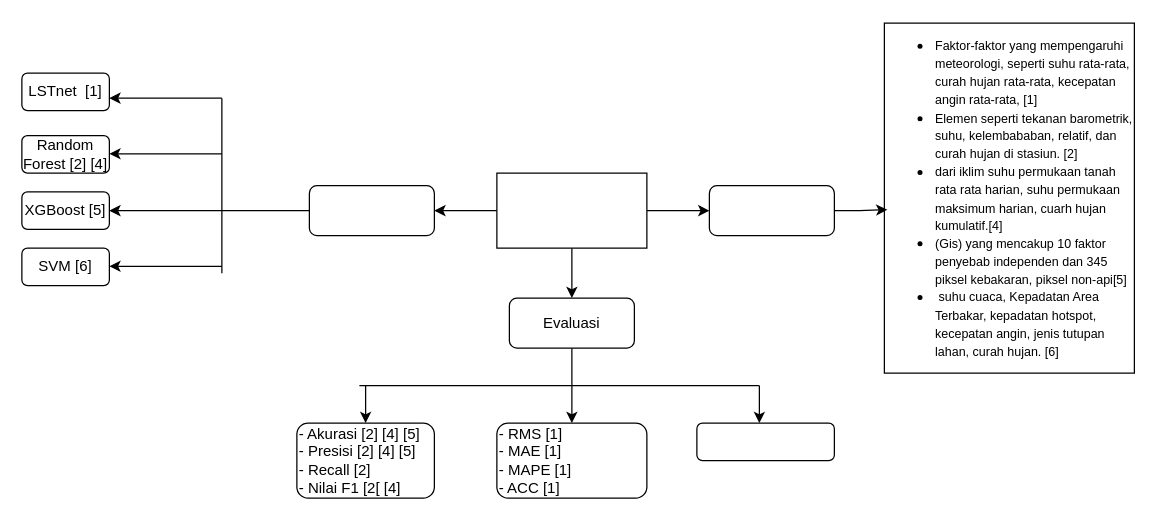
This 1156x520 diagram has some shape labels left out. Here are the shapes that lost their labels. From the top down, the centre of each, then its label:
At pixel 371 210: "Methods".
At pixel 571 210: "FOREST FIRE PREDICTION WITH MACHINE LEARNING".
At pixel 771 210: "Dataset".
At pixel 765 441: "- AUC [4] [5]".
